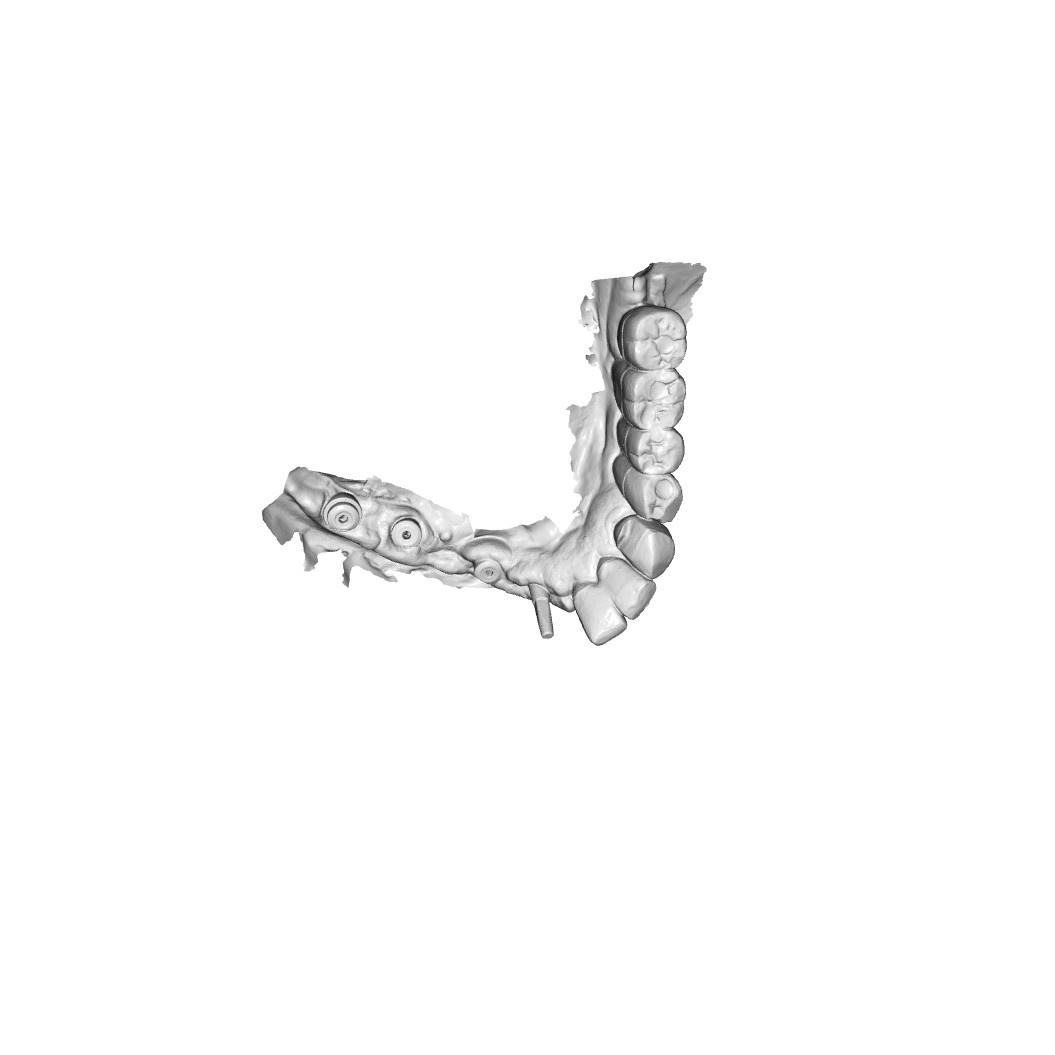abutment: (524, 576, 557, 643)
canine: (615, 514, 677, 580)
implant: (323, 492, 363, 532), (388, 511, 424, 552), (473, 556, 506, 588)
incisor: (602, 558, 661, 621), (580, 584, 627, 650)
molar: (625, 366, 691, 433), (625, 306, 690, 371)
premolar: (624, 470, 685, 521), (630, 427, 684, 476)
